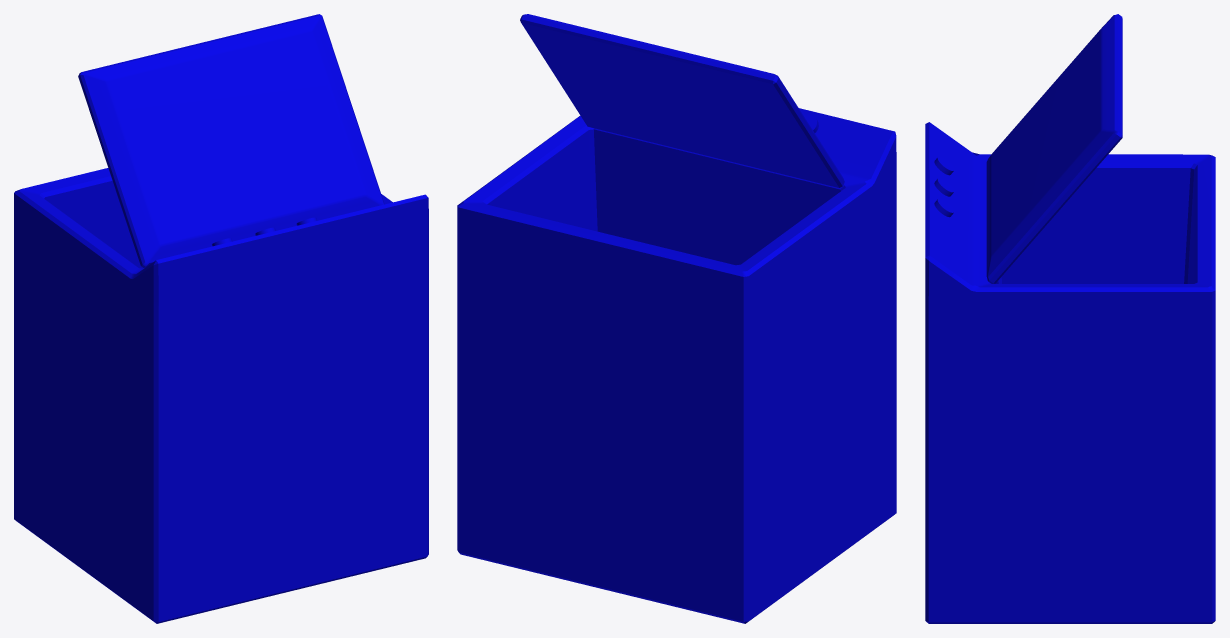
The model's file is Floor2Dryer.fbx.
The picture shows the model from 3 angles, left to right: view 1: azimuth 30°, elevation 25°; view 2: azimuth 150°, elevation 25°; view 3: azimuth 270°, elevation 25°; orthographic projection. The views are drawn at different scales.
Parts seen in each view (by area): view 1: Dryer, DryerLid; view 2: Dryer, DryerLid; view 3: Dryer, DryerLid.
Part boxes in pixels (<box>): Dryer: <box>14,168,428,623</box>; DryerLid: <box>78,14,384,267</box>; Dryer: <box>457,108,896,623</box>; DryerLid: <box>520,14,844,187</box>; Dryer: <box>925,122,1215,623</box>; DryerLid: <box>986,14,1122,283</box>.
Bounding box in the file's own units: 111 × 184 × 99.74.
